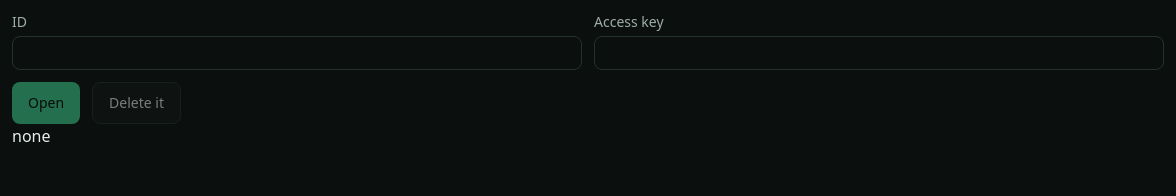
Test case: OpenSavedForm › opens a saved analysis into the session, without audio
This screenshot has width=1176, height=196.
Expected: the button "Open" is disabled, [12,82,80,124]
Type "123e4567-e89b-12d3-a456-426614174000" into the field labelled "ID" at (297, 53), box [12,36,582,70]
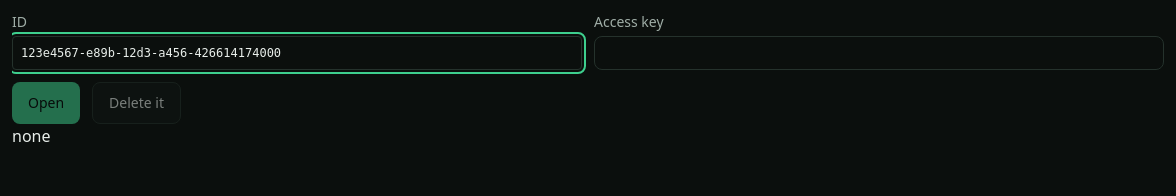
Type "k3y-shown-once-0123456789abcdef" into the password field labelled "Access key" at (879, 53), box [594,36,1164,70]
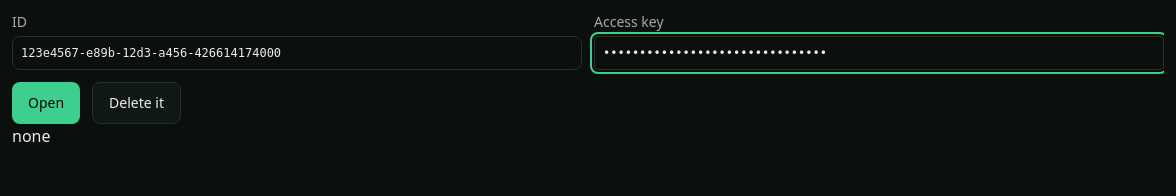
Click the button "Open" at (46, 103), box [12,82,80,124]
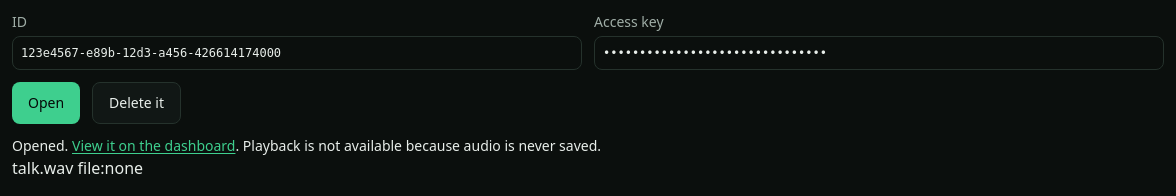
Expected: the message shows "Opened.", [12,136,72,155]
Expected: the text "Playback is not available because audio is never saved" is shown, [236,136,601,155]
Expected: the text with test id "session" reads "talk.wav file:none", [12,157,143,179]
